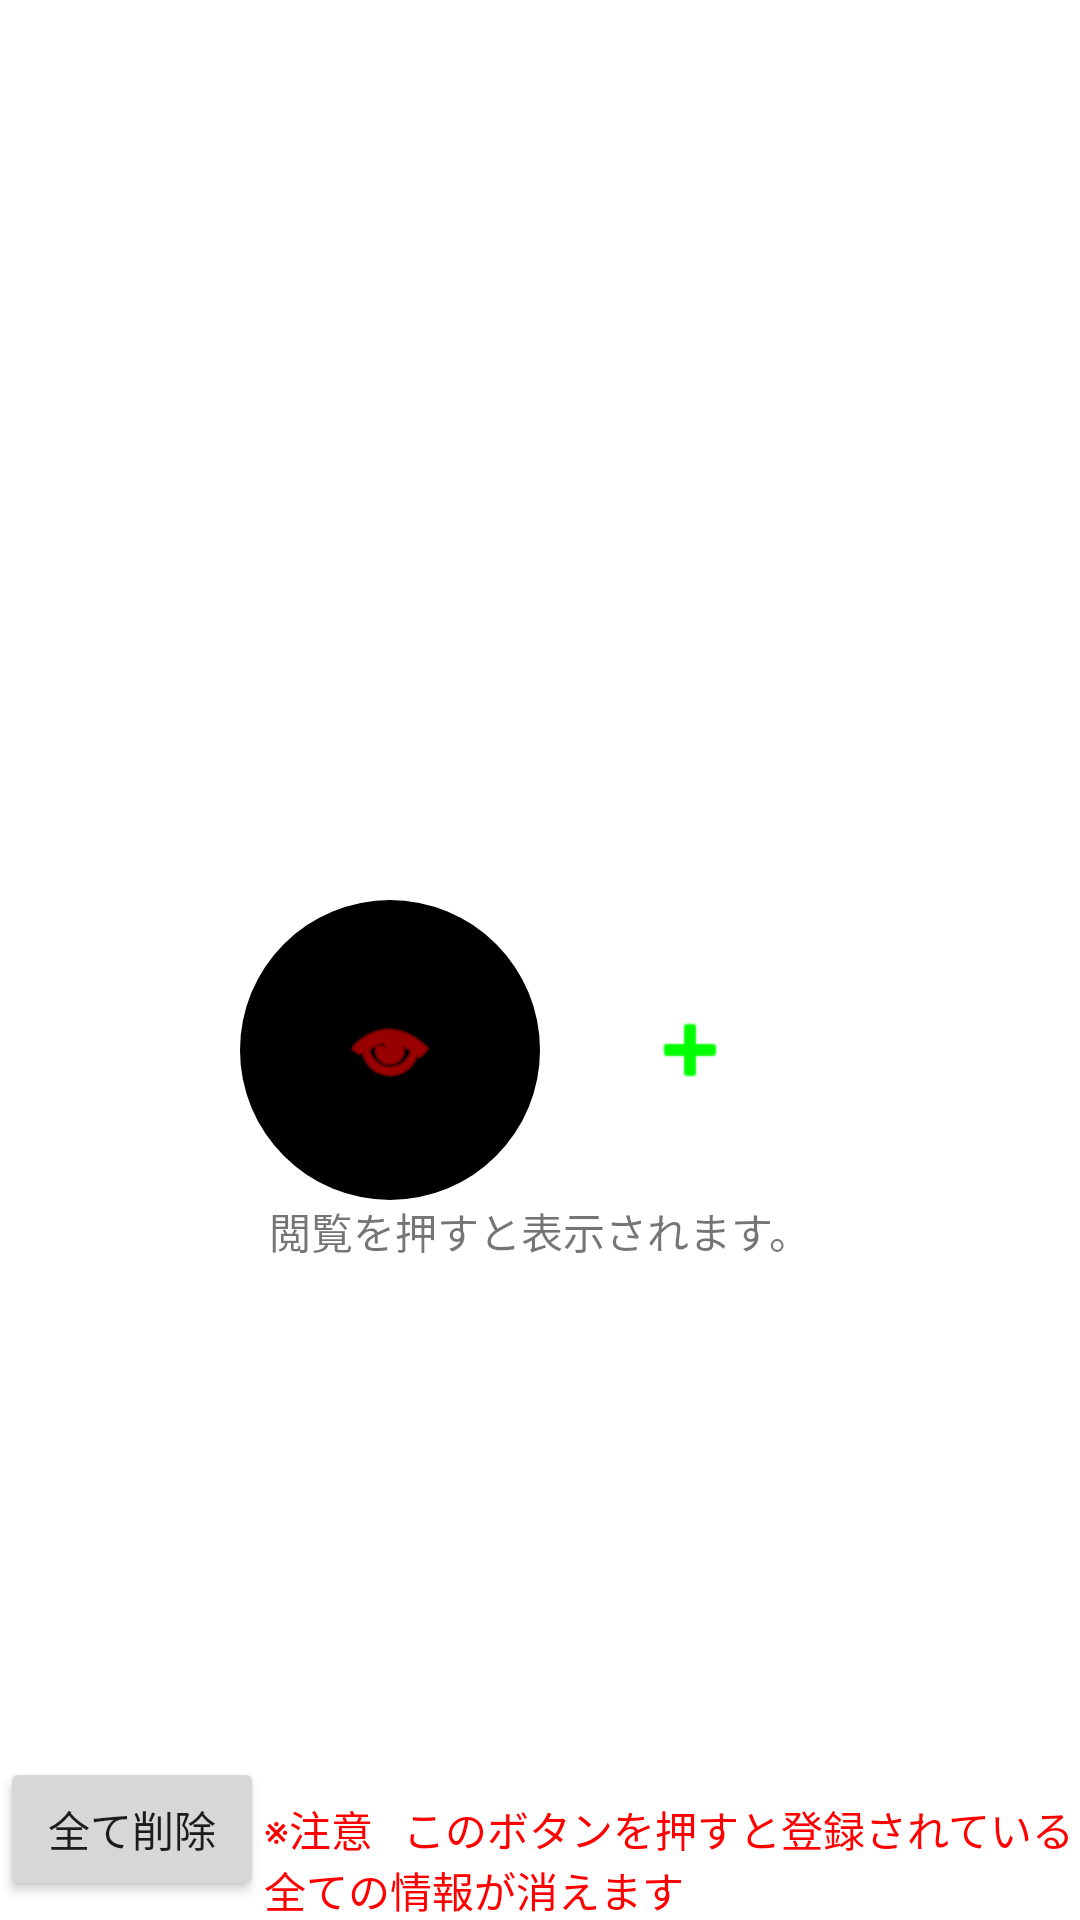

Icons on this 1080*1920 Android screen, each with the point to tap as (x,y):
add: (690,1050)
